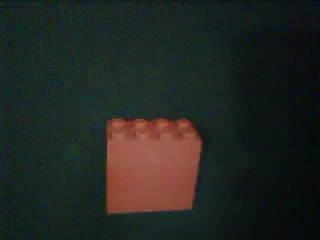lego: (102, 115, 202, 214)
